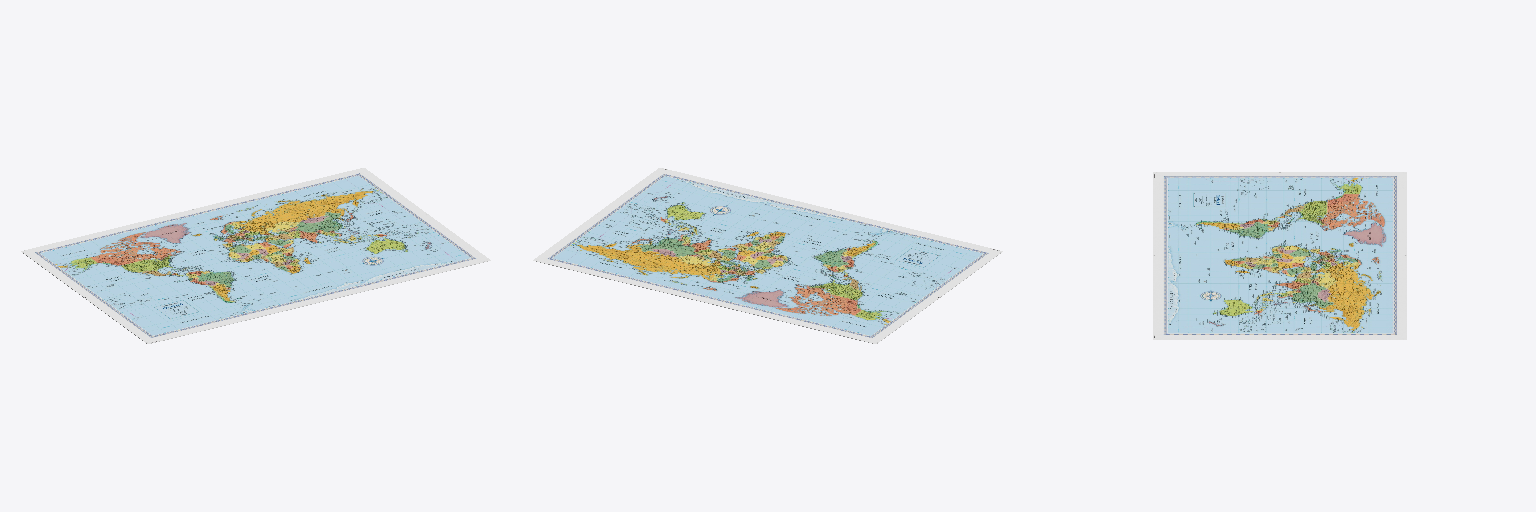
The picture shows the model from 3 angles: view 1: azimuth 30°, elevation 25°; view 2: azimuth 150°, elevation 25°; view 3: azimuth 270°, elevation 25°; orthographic projection.
Bounding box in the file's own units: 9.16 × 0.0101 × 5.87.
2 materials, 1 textured.